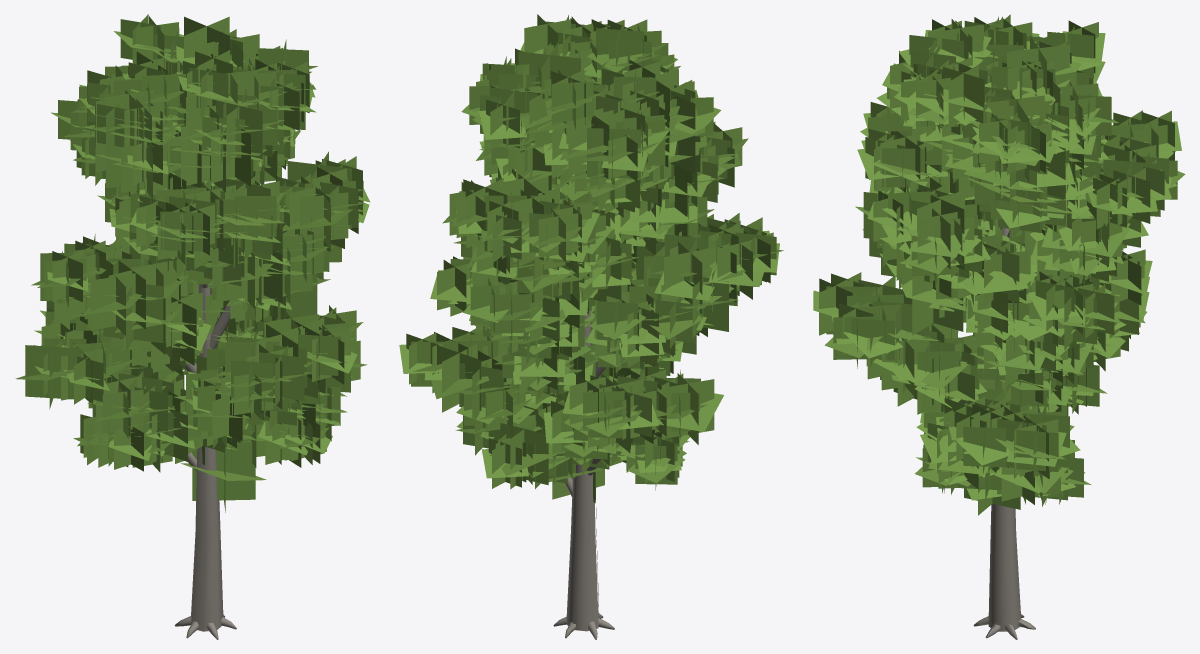
Rendered from tilleul_3_jeu.glb.
3 views of the same model, side by side, from view 1: azimuth 30°, elevation 25°; view 2: azimuth 150°, elevation 25°; view 3: azimuth 270°, elevation 25° (orthographic).
Visible parts, largest first — view 1: Tilleul_T3_Leger; view 2: Tilleul_T3_Leger; view 3: Tilleul_T3_Leger.
Boxes of the visible parts, x1,y1,x2,y2 form: Tilleul_T3_Leger: [15, 14, 370, 639]; Tilleul_T3_Leger: [399, 14, 783, 639]; Tilleul_T3_Leger: [813, 14, 1185, 639].
Size of the model in its own units: 8.94 by 14.25 by 8.11.
